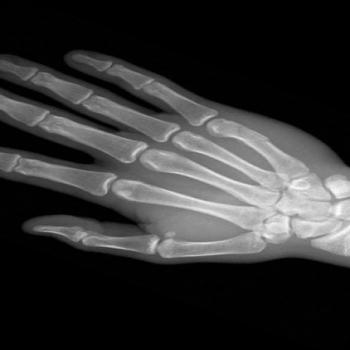Fracture: (246, 134, 276, 149)
